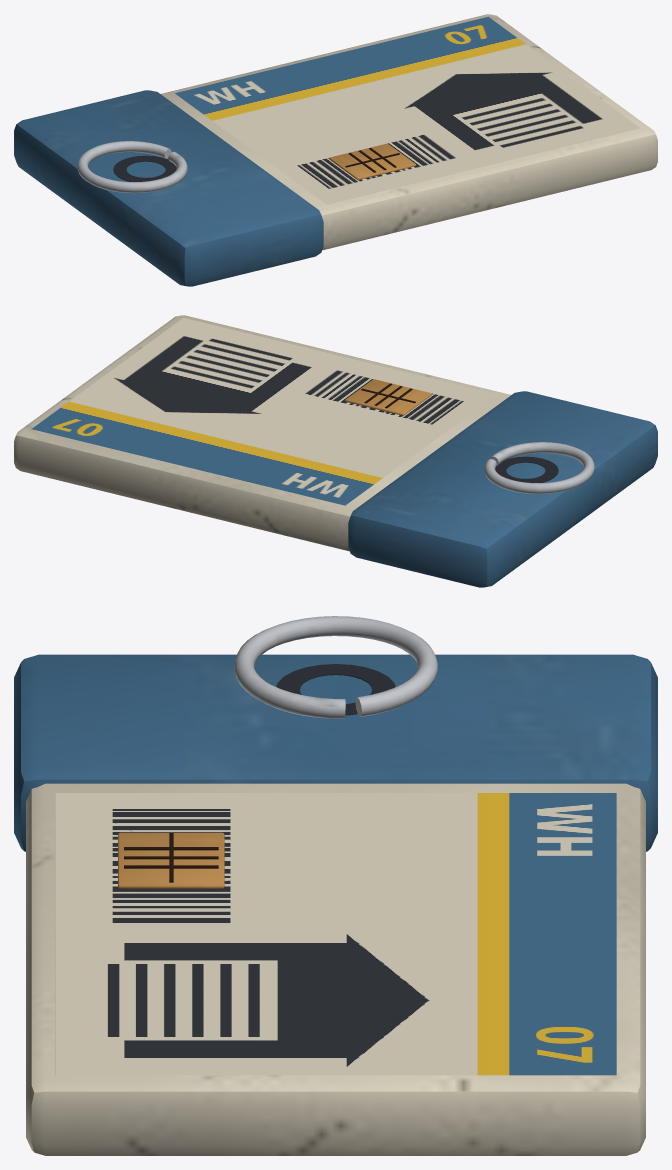
File: warehouse_key.glb
The picture shows the model from 3 angles, top to bottom: view 1: azimuth 30°, elevation 25°; view 2: azimuth 150°, elevation 25°; view 3: azimuth 270°, elevation 25°; orthographic projection. The views are drawn at different scales.
Parts seen in each view (by area): view 1: Card; view 2: Card; view 3: Card.
Part boxes in pixels (x1,y1,x2,y2): Card: (14, 14, 657, 286); Card: (14, 315, 657, 587); Card: (14, 616, 657, 1155).
Size of the model in its own units: 0.2171 by 0.026 by 0.133.
Materials: 8 (5 with a texture image).
